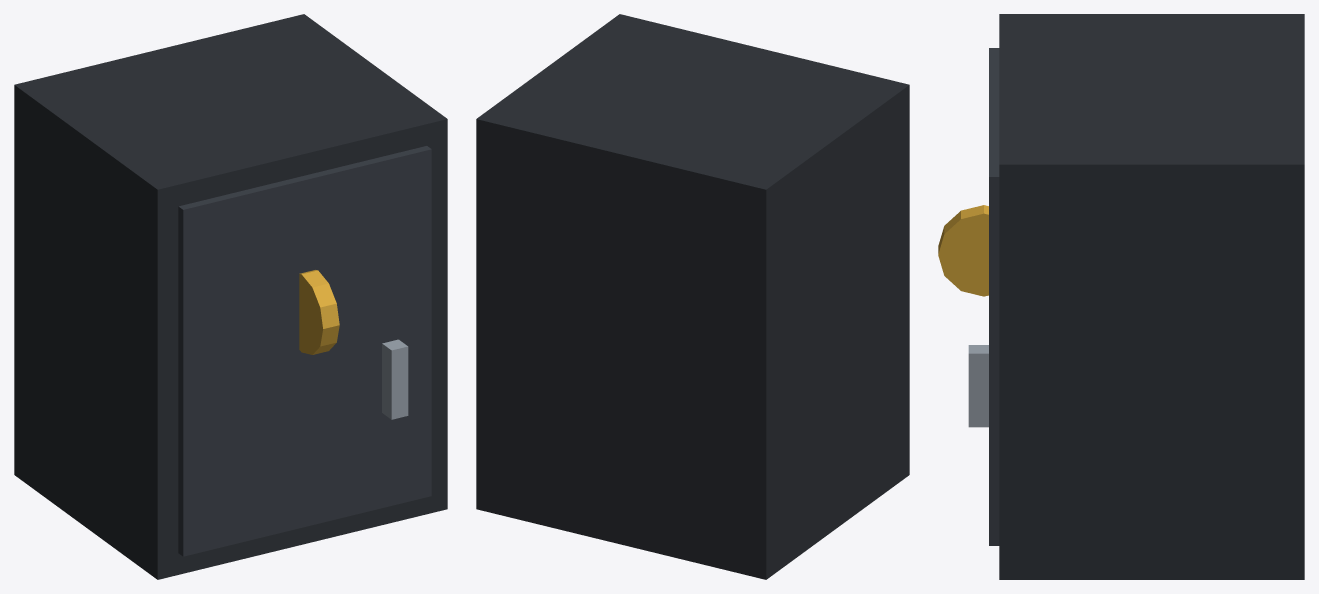
The model's file is safe.glb.
3 views of the same model, side by side, from view 1: azimuth 30°, elevation 25°; view 2: azimuth 150°, elevation 25°; view 3: azimuth 270°, elevation 25° (orthographic). The views are drawn at different scales.
Visible parts, largest first — view 1: safe-2e3238, safe-3b4048, safe-d8a93b, safe-9aa3ad; view 2: safe-2e3238; view 3: safe-2e3238, safe-3b4048, safe-d8a93b, safe-9aa3ad.
Boxes of the visible parts, left/top/right/bottom form: safe-2e3238: left=14, top=14, right=447, bottom=579; safe-3b4048: left=178, top=146, right=431, bottom=556; safe-d8a93b: left=299, top=270, right=339, bottom=354; safe-9aa3ad: left=382, top=339, right=408, bottom=419; safe-2e3238: left=476, top=14, right=909, bottom=579; safe-2e3238: left=999, top=14, right=1304, bottom=579; safe-3b4048: left=989, top=48, right=999, bottom=545; safe-d8a93b: left=938, top=205, right=988, bottom=296; safe-9aa3ad: left=968, top=345, right=988, bottom=427.
Size of the model in its own units: 0.7 by 0.9 by 0.72.
